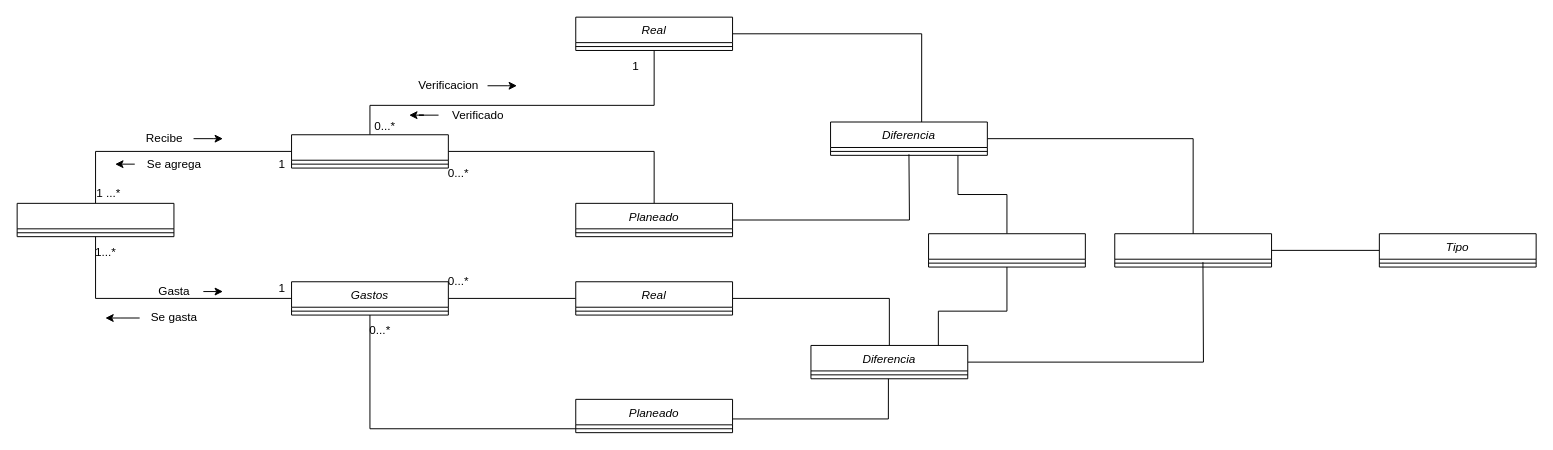
Some shapes in this 1553 by 450 pixel diagram are drawn without their labels. Here are the shapes that lost their labels. From the top down, the centre of each, then its label:
At point 369,151: "Ingresos".
At point 95,219: "Usuario".
At point 1006,250: "Necesario".
At point 1193,250: "Categoria".
